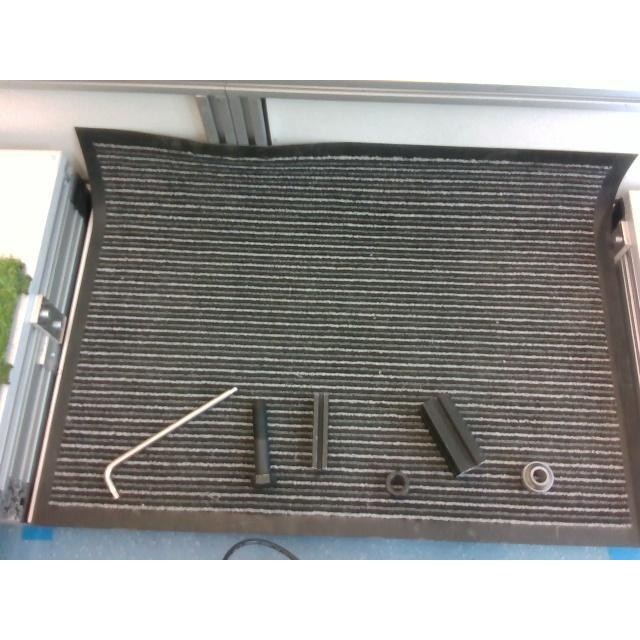AllenKey: (102, 387, 238, 501)
Bearing2: (522, 461, 554, 491)
F20_20_B: (311, 390, 329, 472)
M20: (386, 469, 410, 498)
M20_100: (252, 398, 276, 489)
S40_40_B: (421, 394, 487, 478)
